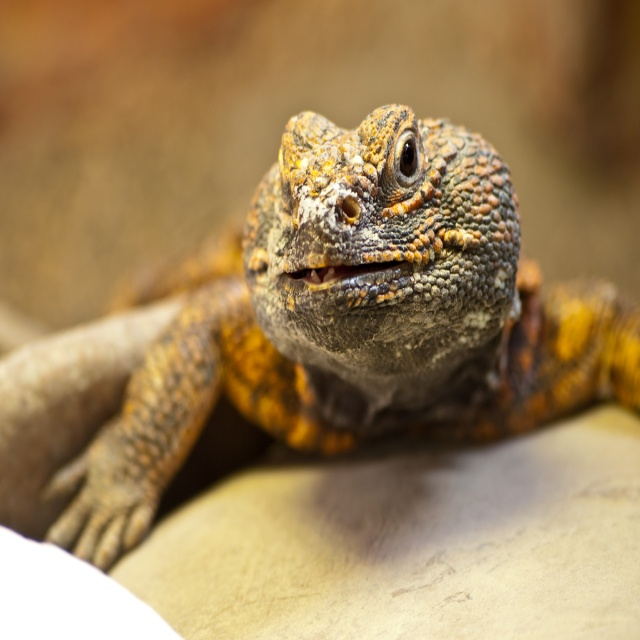Lizard: (4, 89, 630, 610)
